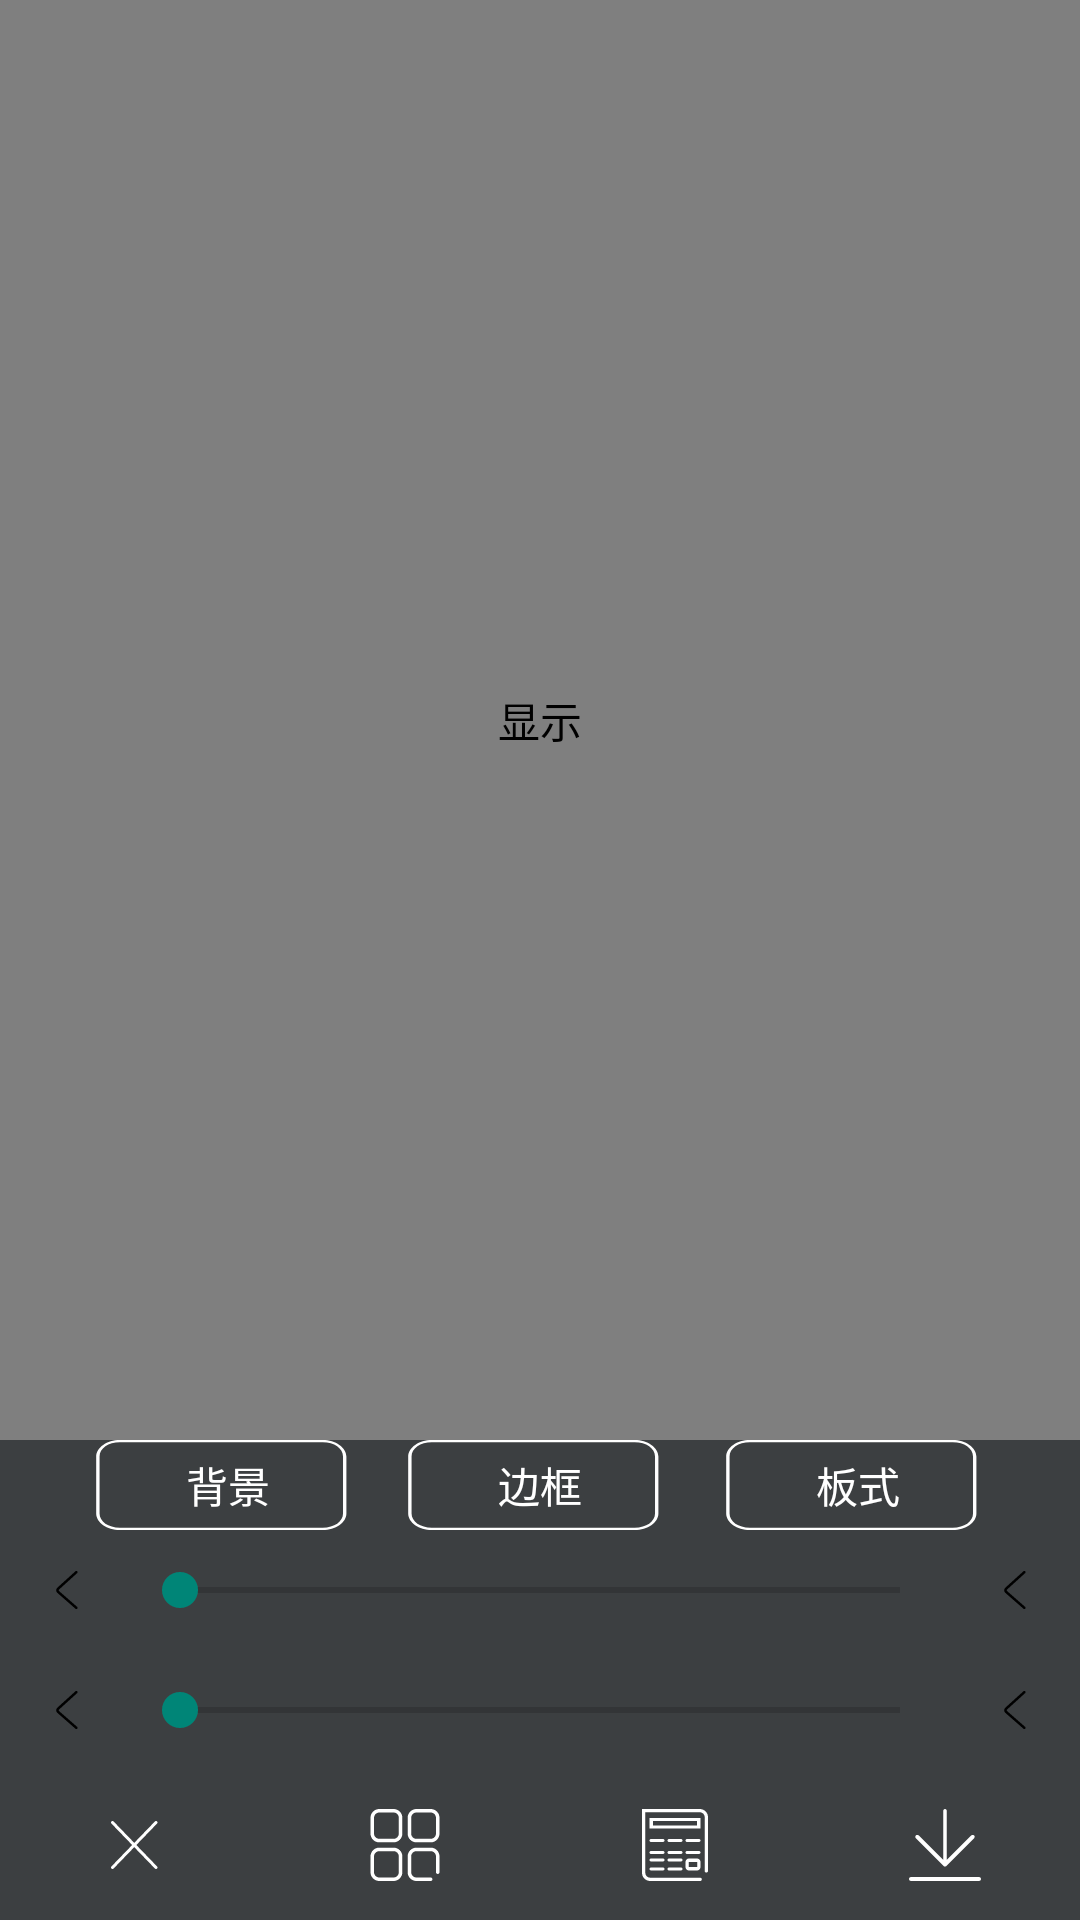

Named icons in this screenshot (1080 × 1920) and their centers, point (x, y):
back: point (67, 1590), point (1015, 1590), point (67, 1710), point (1015, 1710)
close: point (134, 1845)
magzine: point (675, 1845)
save: point (945, 1845)
